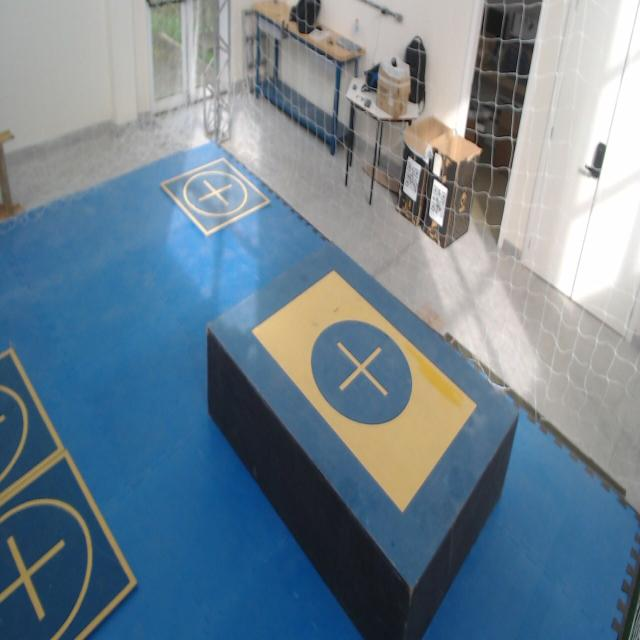base_inicio: (250, 269, 478, 513)
base_pouso: (0, 448, 138, 639), (0, 348, 66, 500), (160, 155, 271, 238)
